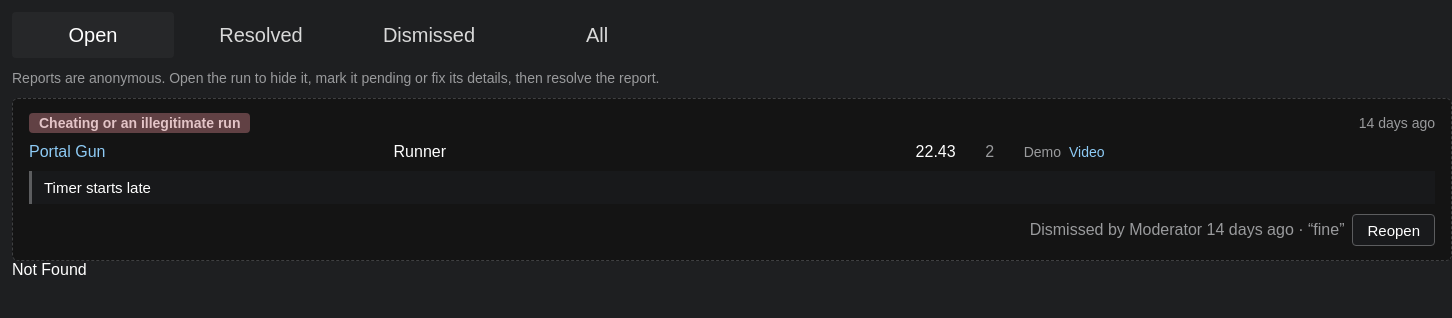
run reports › shows how a closed report ended, and reopens it
Check: the text "Dismissed by Moderator 14 days ago · “fine”" is shown, box x1=1030 y1=221 x2=1344 y2=239
Click the button "Reopen": (1394, 230) x1=1352 y1=214 x2=1435 y2=246
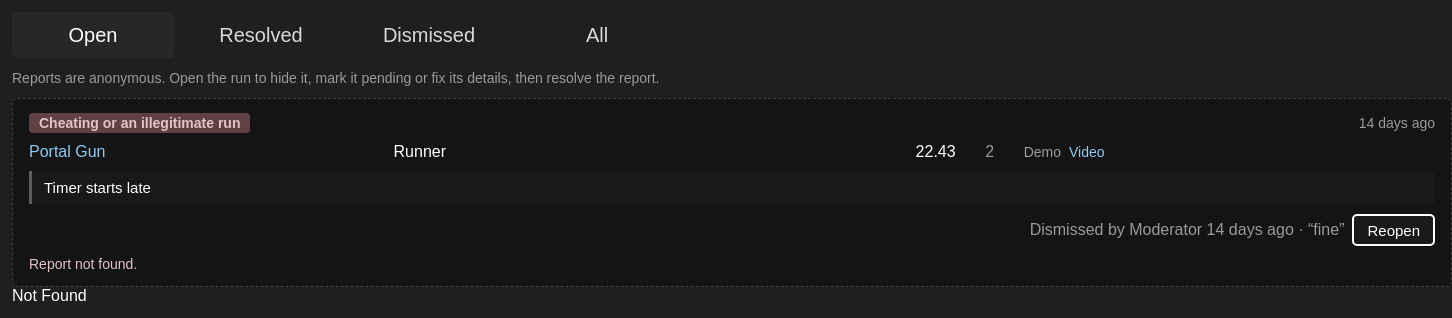
Check: the text "Report not found." is shown, box x1=29 y1=256 x2=137 y2=272
